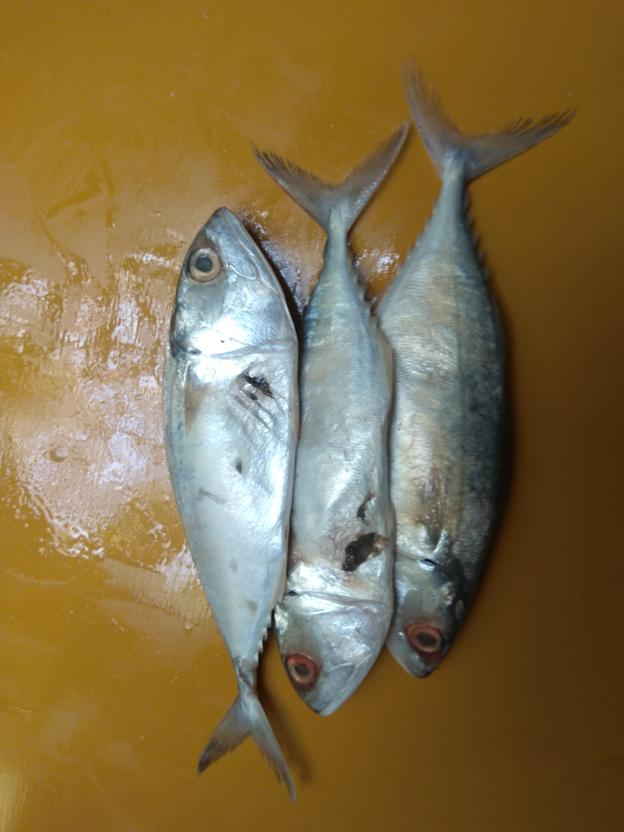Fish head: (169, 203, 301, 358), (275, 591, 392, 717), (388, 558, 470, 681)
Fish tail: (399, 60, 580, 184), (246, 120, 415, 235), (196, 689, 298, 803)
